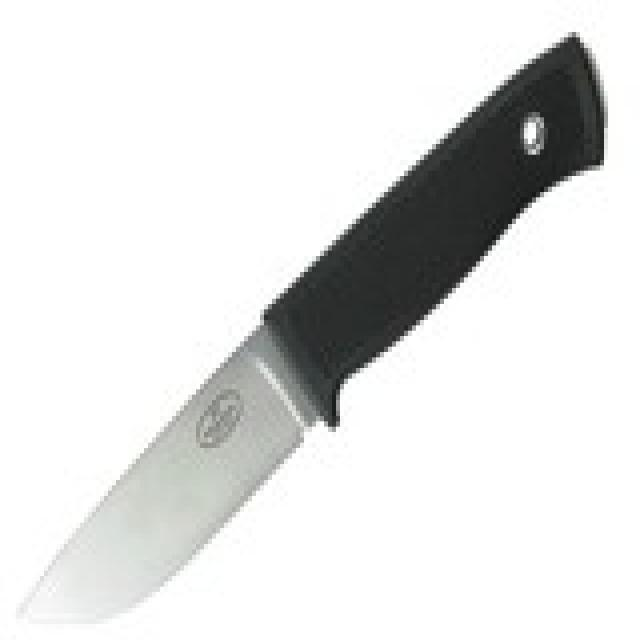Knife: (12, 24, 604, 628)
